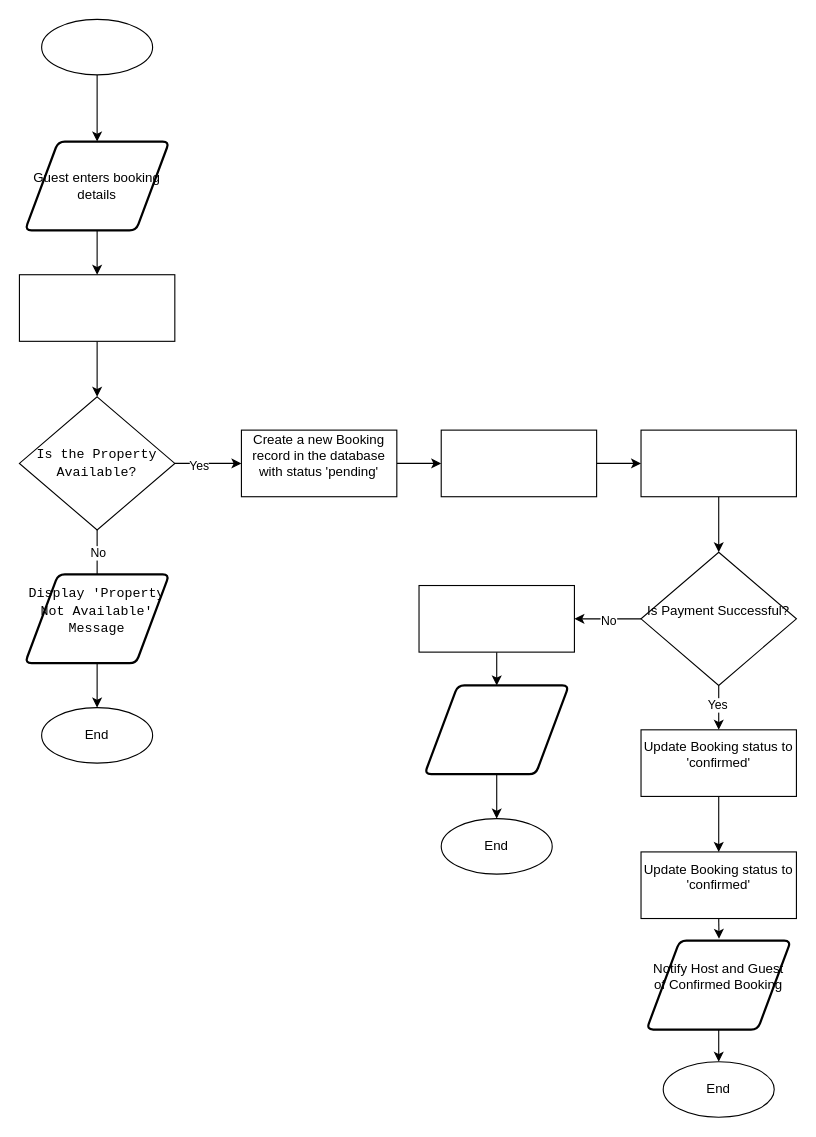
The diagram is 816 pixels wide and 1137 high, and some of its shapes have lost their labels. Each missing label, with the centre of its shape:
Calculate total price: [518,463]
Check Property & Dates Availability: [96,307]
Initiate Payment Request with Payment Gateway: [718,463]
Notify Guest of Failed Payment: [496,729]
Start: [97,46]
Update Booking status to 'canceled': [496,618]
